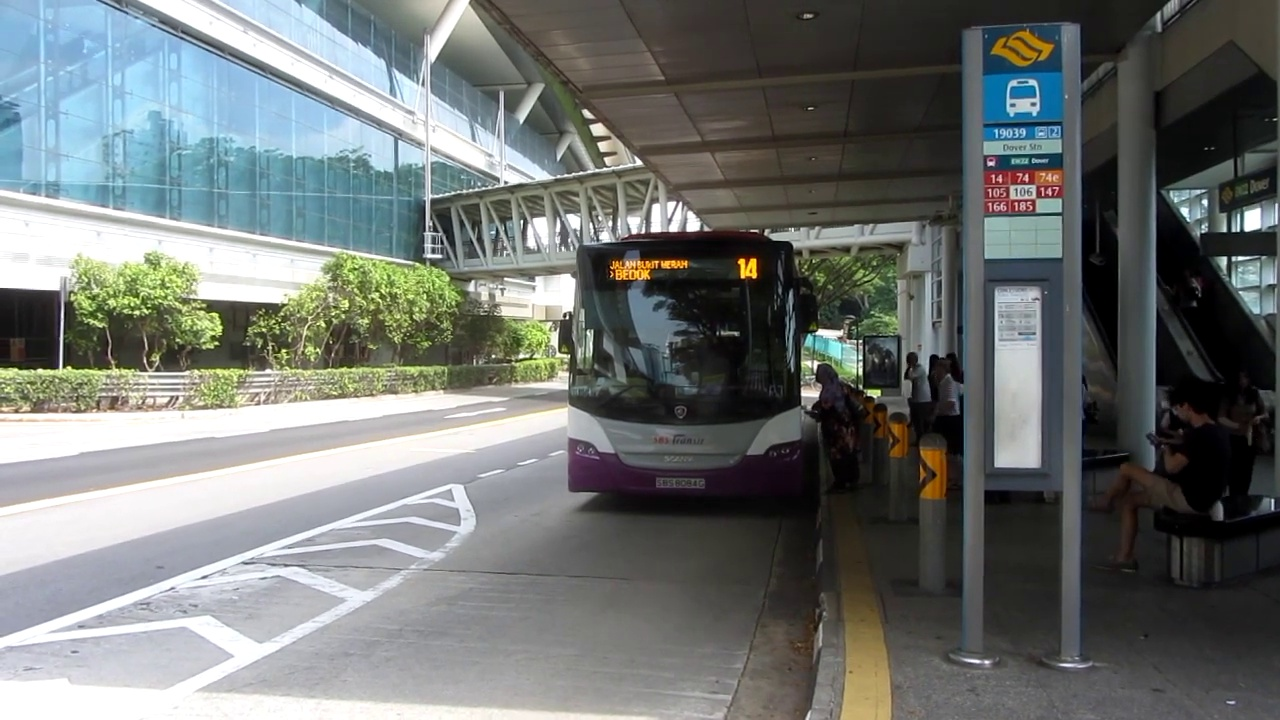bus panel: (605, 255, 762, 283)
